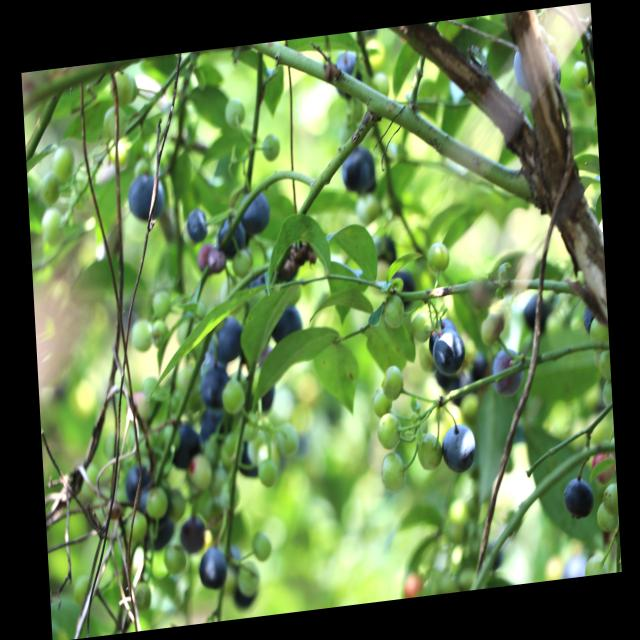blueberry: (430, 316, 466, 375), (126, 172, 167, 222), (340, 142, 375, 195), (442, 422, 477, 471), (168, 422, 202, 468), (238, 189, 272, 235), (490, 350, 524, 396), (562, 475, 594, 521), (124, 462, 154, 510), (214, 314, 242, 363), (216, 215, 246, 258), (270, 302, 302, 341), (198, 546, 226, 589), (200, 364, 230, 404), (179, 515, 206, 555), (522, 294, 546, 330), (185, 207, 209, 242)
blueberry-unripe: (415, 430, 444, 473), (378, 450, 407, 492), (374, 410, 403, 450), (220, 376, 247, 414), (382, 292, 406, 332), (408, 310, 434, 344), (381, 362, 404, 400), (161, 546, 189, 577), (426, 240, 450, 274), (146, 487, 170, 518), (277, 424, 298, 458), (251, 531, 273, 563), (132, 317, 152, 351), (258, 457, 279, 488), (373, 388, 392, 416)
